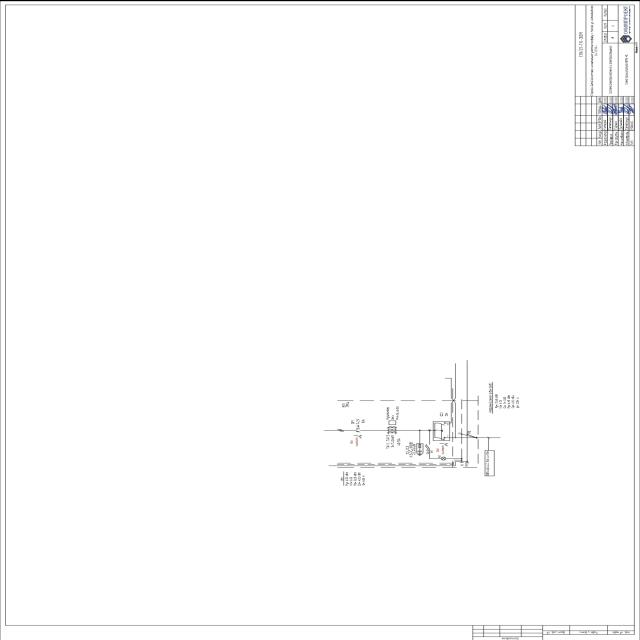-: (385, 404, 400, 420), (390, 434, 402, 446), (355, 417, 365, 429), (349, 436, 359, 446), (436, 444, 444, 454), (342, 401, 349, 406), (426, 448, 432, 453), (444, 411, 448, 415)
AUX: (438, 442, 449, 446), (353, 433, 363, 437)
HL: (441, 456, 446, 460)
PM: (388, 419, 397, 424)
QF: (337, 427, 362, 432), (425, 442, 431, 448)
TT: (386, 424, 398, 434)
switch: (438, 421, 448, 439)
